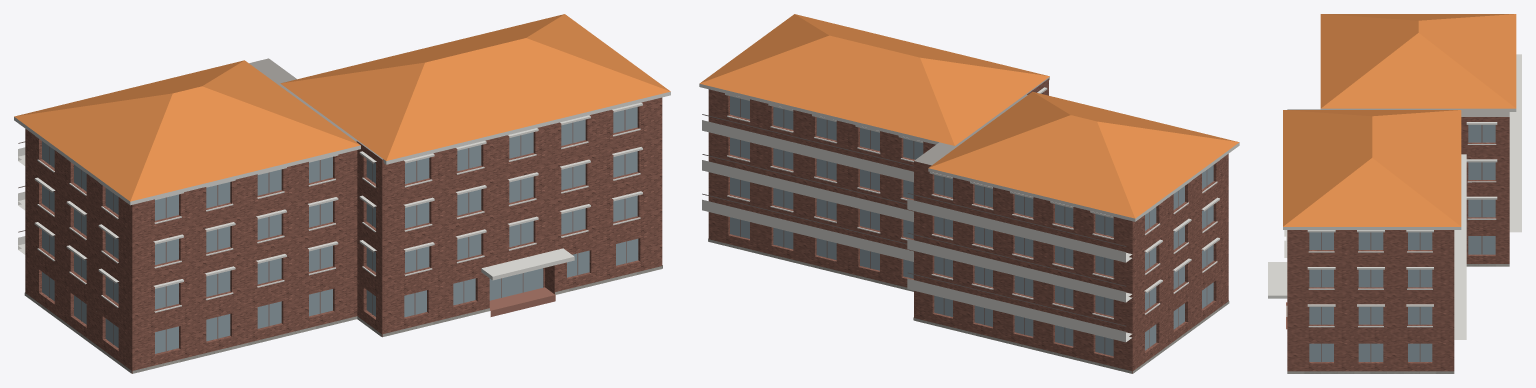
3 renders of one model, left to right at view 1: azimuth 30°, elevation 25°; view 2: azimuth 150°, elevation 25°; view 3: azimuth 270°, elevation 25°, orthographic. The views are drawn at different scales.
Visible parts, largest first — view 1: osm136187758__wall, osm136187758__roofAccent, osm136187758__glass, osm136187758__trim, osm136187758__base, osm136187758__frame, osm136187758__canopy, osm136187758__entranceThreshold_0, osm136187758__roof; view 2: osm136187758__wall, osm136187758__roofAccent, osm136187758__trim, osm136187758__glass, osm136187758__frame, osm136187758__base, osm136187758__roof; view 3: osm136187758__roofAccent, osm136187758__wall, osm136187758__glass, osm136187758__trim, osm136187758__roof, osm136187758__canopy, osm136187758__base, osm136187758__frame.
Part boxes in pixels (x1,y1,x2,y2): osm136187758__wall: [25, 97, 662, 373]; osm136187758__roofAccent: [14, 14, 670, 201]; osm136187758__glass: [42, 107, 638, 353]; osm136187758__trim: [14, 91, 670, 312]; osm136187758__base: [24, 265, 662, 373]; osm136187758__frame: [18, 110, 626, 351]; osm136187758__canopy: [481, 248, 574, 280]; osm136187758__entranceThreshold_0: [489, 287, 555, 316]; osm136187758__roof: [132, 58, 383, 373]; osm136187758__wall: [708, 78, 1228, 373]; osm136187758__roofAccent: [700, 14, 1239, 218]; osm136187758__trim: [699, 77, 1239, 342]; osm136187758__glass: [730, 96, 1213, 356]; osm136187758__frame: [702, 98, 1207, 354]; osm136187758__base: [708, 238, 1229, 373]; osm136187758__roof: [914, 78, 1048, 165]; osm136187758__roofAccent: [1283, 14, 1516, 226]; osm136187758__wall: [1287, 117, 1509, 371]; osm136187758__glass: [1309, 125, 1495, 361]; osm136187758__trim: [1283, 54, 1521, 339]; osm136187758__roof: [1287, 108, 1509, 116]; osm136187758__canopy: [1268, 262, 1287, 298]; osm136187758__base: [1287, 264, 1509, 373]; osm136187758__frame: [1321, 125, 1482, 362].
Size of the model in its own units: 36.67 by 15.18 by 18.48.
10 materials, 2 textured.
